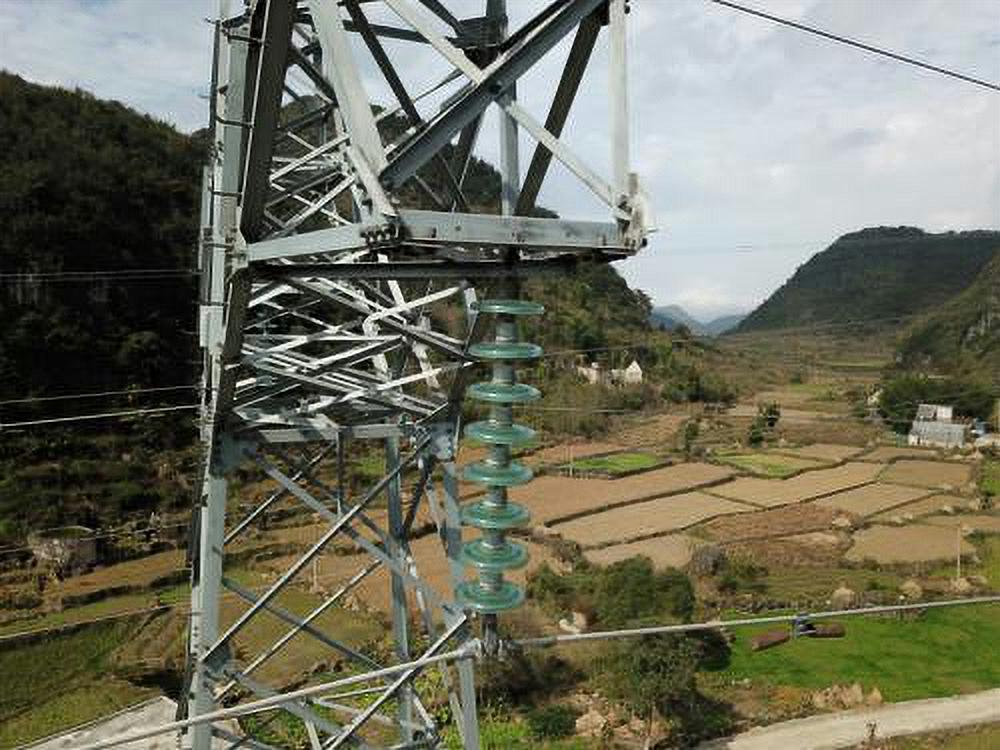insulator: (450, 292, 553, 620)
